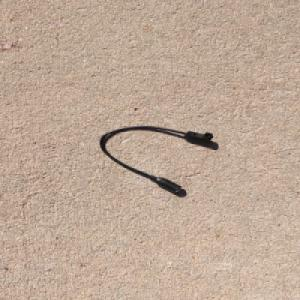Wire: (99, 125, 214, 193)
